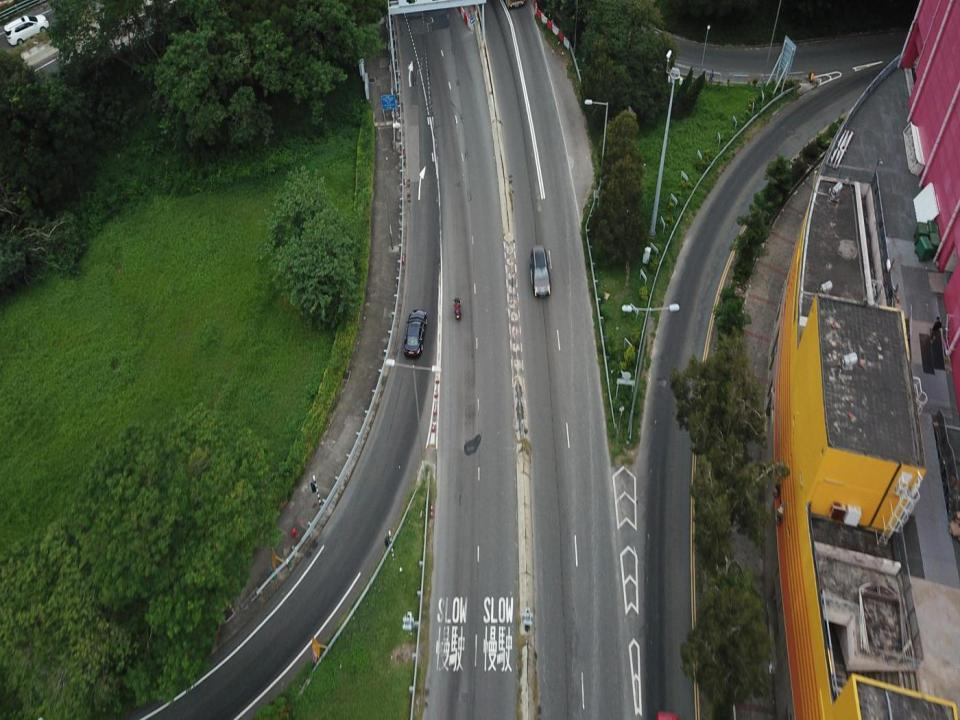car: (528, 243, 553, 302), (403, 309, 428, 360)
